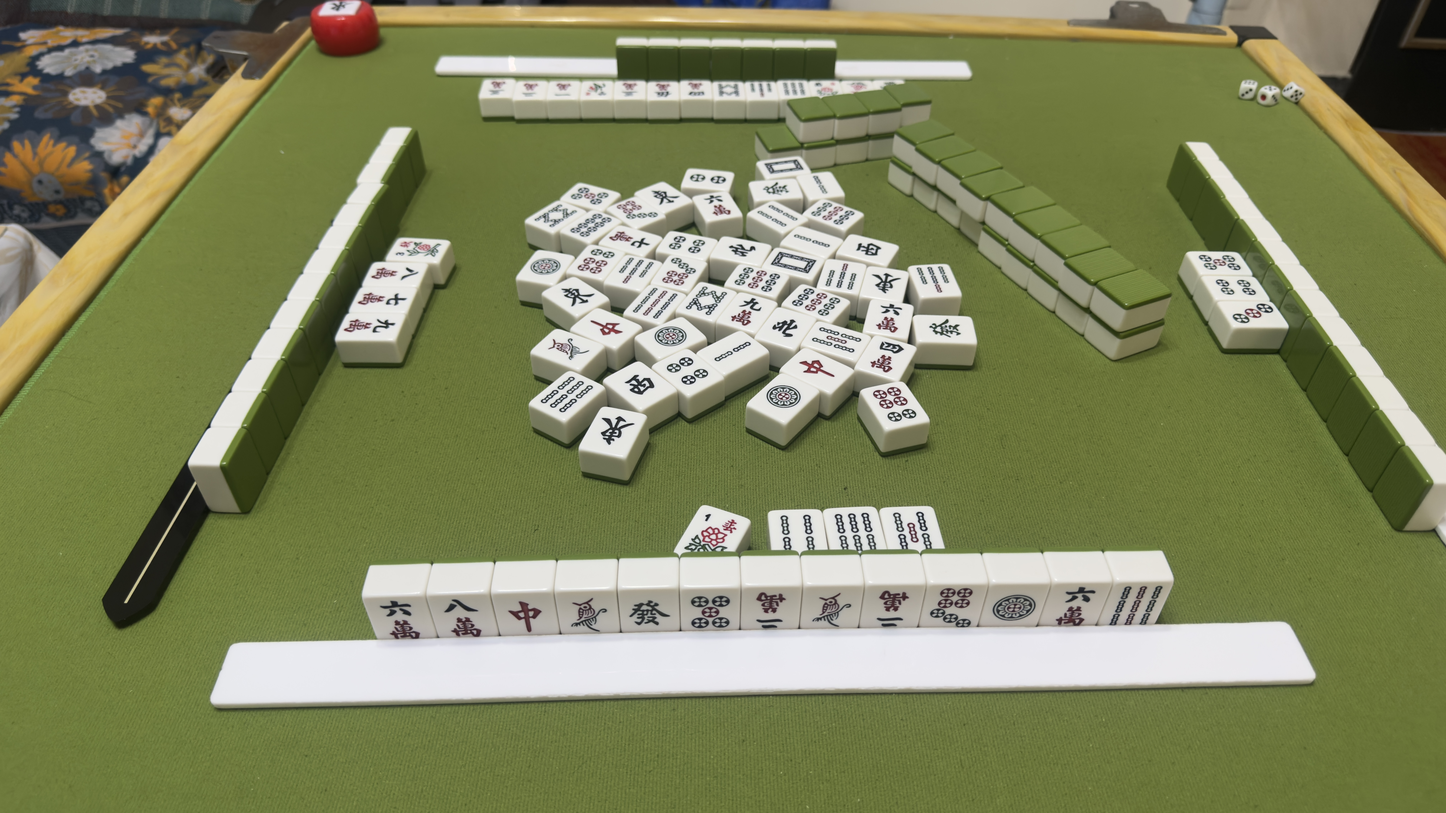hand_b1: (1113, 577, 1160, 629)
hand_b4: (994, 589, 1038, 625)
hand_b8: (681, 587, 732, 632)
hand_d1: (929, 587, 975, 631)
hand_d5: (622, 589, 672, 631)
hand_d9: (500, 596, 550, 637)
hand_red: (748, 586, 788, 632), (872, 587, 910, 629)
hand_summer: (377, 593, 421, 639), (1056, 582, 1096, 631)
hand_w2: (565, 589, 612, 636), (810, 586, 853, 632)
hand_winter: (433, 594, 483, 643)
table_autumn: (609, 224, 652, 249), (355, 289, 410, 307)
table_b1: (630, 286, 679, 320)
table_b4: (762, 381, 802, 413), (651, 317, 687, 350), (528, 252, 560, 277)
table_b5: (686, 164, 728, 187)
table_b6: (1233, 301, 1272, 328)
table_b7: (666, 354, 712, 388), (669, 234, 704, 255)
table_b8: (1200, 248, 1240, 277), (1214, 276, 1256, 301), (567, 182, 610, 206)
table_b9: (864, 385, 918, 428), (574, 242, 613, 279)
table_bamboo: (774, 249, 816, 274), (759, 159, 806, 174)
table_d2: (661, 257, 701, 288), (569, 212, 608, 242), (616, 195, 654, 222)
table_d3: (788, 286, 840, 317), (728, 266, 778, 292), (812, 200, 857, 227)
table_d4: (594, 410, 634, 449), (557, 282, 594, 306), (869, 268, 898, 293), (647, 184, 678, 205)
table_d5: (920, 311, 966, 342), (760, 178, 791, 199)
table_d6: (724, 236, 756, 259), (773, 312, 798, 338)
table_d9: (794, 352, 836, 379), (586, 316, 630, 339)
table_green: (485, 77, 510, 99)
table_north: (554, 81, 573, 99)
table_orchid: (622, 368, 654, 395), (850, 236, 886, 260)
table_plum: (339, 313, 398, 338), (728, 296, 764, 327), (617, 80, 642, 100)
table_red: (520, 82, 542, 100)
table_south: (675, 511, 744, 551)
table_spring: (651, 80, 674, 100)
table_summer: (874, 301, 904, 334)
table_w1: (393, 237, 441, 258)
table_w2: (541, 332, 590, 363)
table_w3: (704, 336, 754, 364), (792, 229, 835, 251), (812, 172, 830, 197)
table_w5: (771, 513, 824, 552), (750, 201, 799, 230)
table_w6: (813, 324, 861, 353)
table_w7: (826, 511, 884, 554), (882, 509, 941, 551), (538, 373, 595, 415), (781, 79, 809, 100)
table_w8: (615, 258, 655, 284), (826, 259, 858, 290), (913, 268, 951, 294), (746, 82, 775, 100)
table_w9: (687, 285, 730, 316), (535, 201, 573, 233)
table_white: (869, 336, 905, 374), (703, 190, 732, 222), (686, 79, 706, 98)
table_winter: (367, 264, 418, 284)
